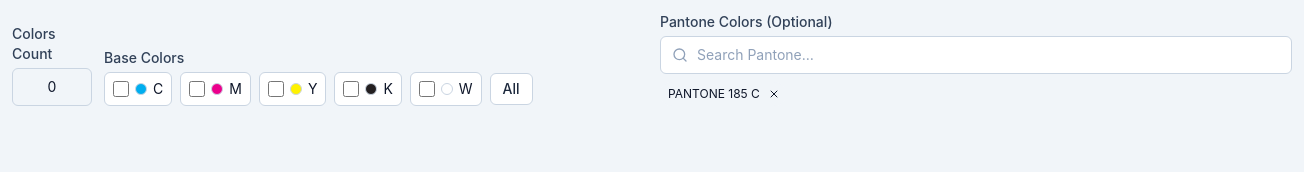
Test: ColorPicker › removes a selected Pantone color
The image size is (1304, 172).
Click the button named "Remove" at (774, 94), box [766,86,782,102]
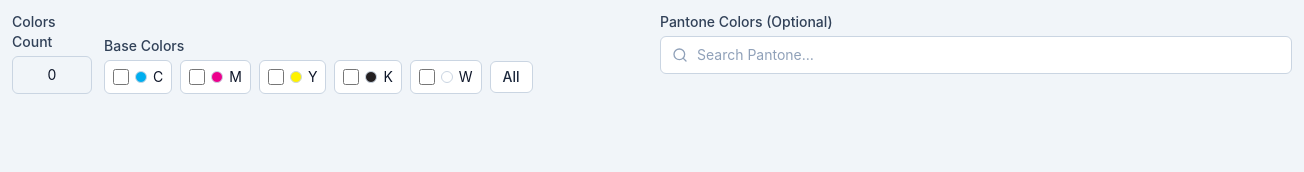
Result: the text "PANTONE 185 C" is gone
